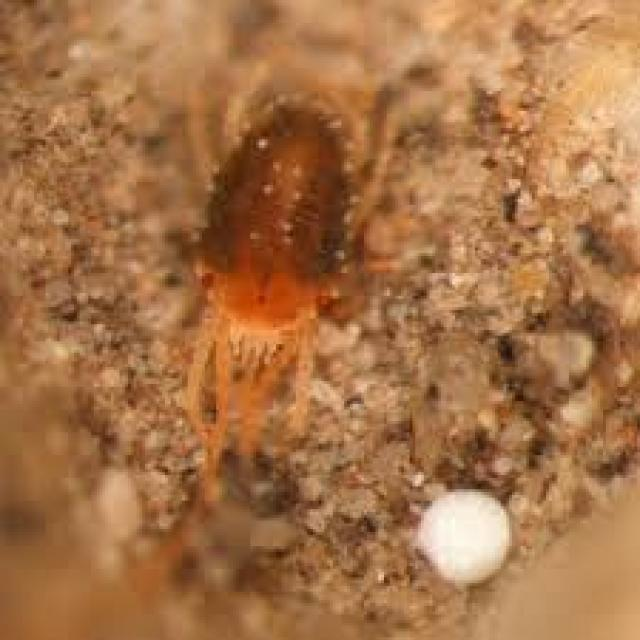Mites: (157, 77, 376, 463)
